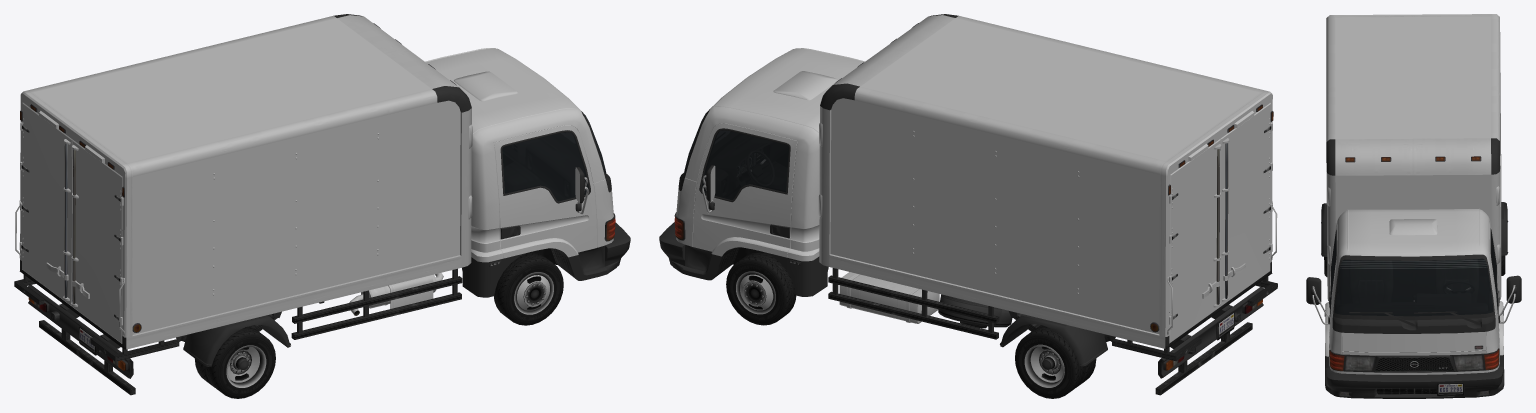
The model's file is lct300095.glb.
3 renders of one model, left to right at view 1: azimuth 30°, elevation 25°; view 2: azimuth 150°, elevation 25°; view 3: azimuth 270°, elevation 25°, orthographic. The views are drawn at different scales.
Parts seen in each view (by area): view 1: LCT300095_Body_lct3000_Bodymat_0, LCT300095_Bottom_UCB_BOTTOM_0, LCT300095_Reardoor_Left_lct3000_Bodymat_0, LCT300095_Reardoor_Right_lct3000_Bodymat_0, LCT300095_Glass_Passenger_UCB_Lights_and_Glass_Transperent_0, LCT300095_Interior_UCB_Interiors_2_0, LCT300095_WheelStock_FR_RB1c_Tire_1k_0, LCT300095_WheelStock_RR_RB1c_Tire_1k_0, LCT300095_Bumper_rear_UCB_BOTTOM_0, LCT300095_Reardoor_Left_Inner_UCB_BOTTOM_0, LCT300095_Reardoor_Right_Inner_UCB_BOTTOM_0, LCT300095_Bumper_front_UCB_BOTTOM_0; view 2: LCT300095_Body_lct3000_Bodymat_0, LCT300095_Bottom_UCB_BOTTOM_0, LCT300095_Reardoor_Right_lct3000_Bodymat_0, LCT300095_Reardoor_Left_lct3000_Bodymat_0, LCT300095_Glass_Driver_UCB_Lights_and_Glass_Transperent_0, LCT300095_WheelStock_FL_RB1c_Tire_1k_0, LCT300095_WheelStock_RL_RB1c_Tire_1k_0, LCT300095_Interior_UCB_Interiors_2_0, LCT300095_Bumper_rear_UCB_BOTTOM_0, LCT300095_Reardoor_Right_Inner_UCB_BOTTOM_0, LCT300095_Reardoor_Left_Inner_UCB_BOTTOM_0, LCT300095_Bumper_front_UCB_BOTTOM_0; view 3: LCT300095_Body_lct3000_Bodymat_0, LCT300095_Bottom_UCB_BOTTOM_0, LCT300095_Windshield_UCB_Lights_and_Glass_Transperent_0, LCT300095_Interior_UCB_Interiors_2_0, LCT300095_Bumper_front_UCB_BOTTOM_0, LCT300095_Headlights_Glass_UCB_Lights_and_Glass_Transperent_, LCT300095_Headlights_UCB_Lights_and_Glass_0, LCT300095_Numberplate_front_Numberplates_Misk_U_0, LCT300095_Glass_Driver_UCB_Lights_and_Glass_Transperent_0.
Part boxes in pixels (bbox=[...]): LCT300095_Body_lct3000_Bodymat_0: bbox=[19, 18, 613, 337]; LCT300095_Bottom_UCB_BOTTOM_0: bbox=[14, 14, 615, 395]; LCT300095_Reardoor_Left_lct3000_Bodymat_0: bbox=[22, 102, 72, 306]; LCT300095_Reardoor_Right_lct3000_Bodymat_0: bbox=[72, 140, 122, 343]; LCT300095_Glass_Passenger_UCB_Lights_and_Glass_Transperent_0: bbox=[502, 132, 589, 201]; LCT300095_Interior_UCB_Interiors_2_0: bbox=[503, 134, 605, 200]; LCT300095_WheelStock_FR_RB1c_Tire_1k_0: bbox=[494, 253, 563, 325]; LCT300095_WheelStock_RR_RB1c_Tire_1k_0: bbox=[195, 326, 275, 398]; LCT300095_Bumper_rear_UCB_BOTTOM_0: bbox=[28, 285, 133, 378]; LCT300095_Reardoor_Left_Inner_UCB_BOTTOM_0: bbox=[21, 125, 70, 300]; LCT300095_Reardoor_Right_Inner_UCB_BOTTOM_0: bbox=[71, 145, 122, 320]; LCT300095_Bumper_front_UCB_BOTTOM_0: bbox=[605, 223, 630, 273]; LCT300095_Body_lct3000_Bodymat_0: bbox=[676, 18, 1272, 336]; LCT300095_Bottom_UCB_BOTTOM_0: bbox=[674, 14, 1277, 395]; LCT300095_Reardoor_Right_lct3000_Bodymat_0: bbox=[1219, 103, 1270, 306]; LCT300095_Reardoor_Left_lct3000_Bodymat_0: bbox=[1169, 139, 1220, 343]; LCT300095_Glass_Driver_UCB_Lights_and_Glass_Transperent_0: bbox=[701, 130, 788, 200]; LCT300095_WheelStock_FL_RB1c_Tire_1k_0: bbox=[726, 252, 796, 325]; LCT300095_WheelStock_RL_RB1c_Tire_1k_0: bbox=[1015, 325, 1096, 398]; LCT300095_Interior_UCB_Interiors_2_0: bbox=[685, 132, 788, 199]; LCT300095_Bumper_rear_UCB_BOTTOM_0: bbox=[1158, 287, 1263, 378]; LCT300095_Reardoor_Right_Inner_UCB_BOTTOM_0: bbox=[1221, 125, 1271, 301]; LCT300095_Reardoor_Left_Inner_UCB_BOTTOM_0: bbox=[1169, 144, 1221, 319]; LCT300095_Bumper_front_UCB_BOTTOM_0: bbox=[659, 222, 685, 273]; LCT300095_Body_lct3000_Bodymat_0: bbox=[1325, 16, 1503, 374]; LCT300095_Bottom_UCB_BOTTOM_0: bbox=[1306, 14, 1521, 388]; LCT300095_Windshield_UCB_Lights_and_Glass_Transperent_0: bbox=[1334, 258, 1493, 316]; LCT300095_Interior_UCB_Interiors_2_0: bbox=[1331, 239, 1497, 315]; LCT300095_Bumper_front_UCB_BOTTOM_0: bbox=[1325, 366, 1503, 398]; LCT300095_Headlights_Glass_UCB_Lights_and_Glass_Transperent_: bbox=[1329, 349, 1499, 371]; LCT300095_Headlights_UCB_Lights_and_Glass_0: bbox=[1345, 355, 1483, 370]; LCT300095_Numberplate_front_Numberplates_Misk_U_0: bbox=[1438, 384, 1462, 394]; LCT300095_Glass_Driver_UCB_Lights_and_Glass_Transperent_0: bbox=[1491, 232, 1497, 309].
Size of the model in its own units: 6.02 by 2.85 by 2.61.
Materials: 8 (7 with a texture image).
